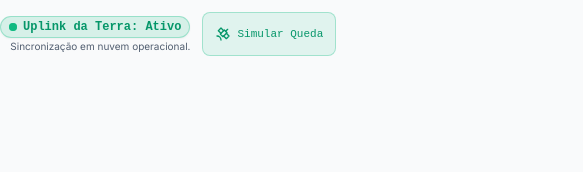
ConnectionStatusWidget Component › 3. reconexão gera exatamente 1 toast com texto exato, restaura badge verde e localStorage (AAA)
Click the button with test id "connection-status-toggle": (269, 34) [202,12,336,56]
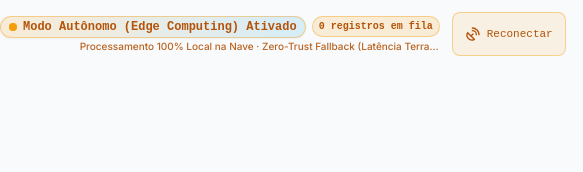
// Executa reconexão
Click the button with test id "connection-status-toggle": (509, 34) [452,12,566,56]
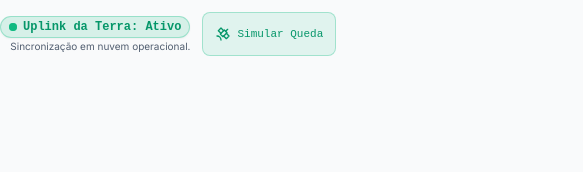
expect the element with test id "connection-status-badge" reads "Uplink da Terra: Ativo": met, box [23,20,181,34]
expect the text "Simular Queda" is shown: met, box [237,24,323,44]
expect the text "Sincronização em nuvem operacional." is shown: met, box [10,40,190,52]
